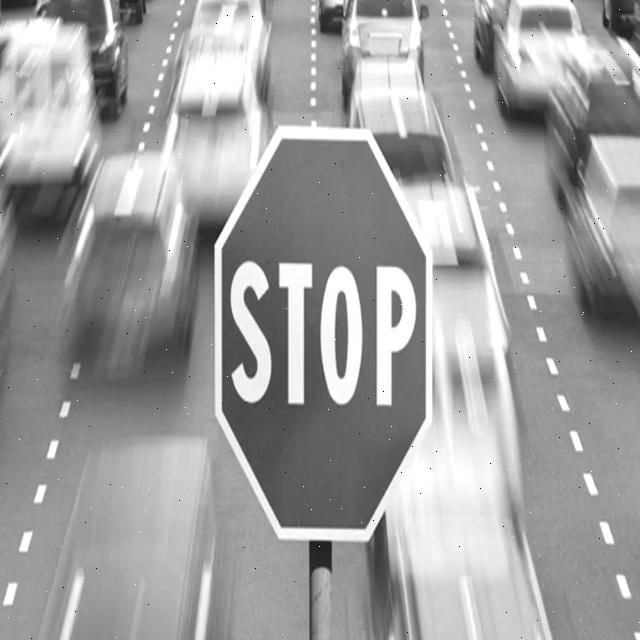Stop-sign: (209, 101, 440, 562)
